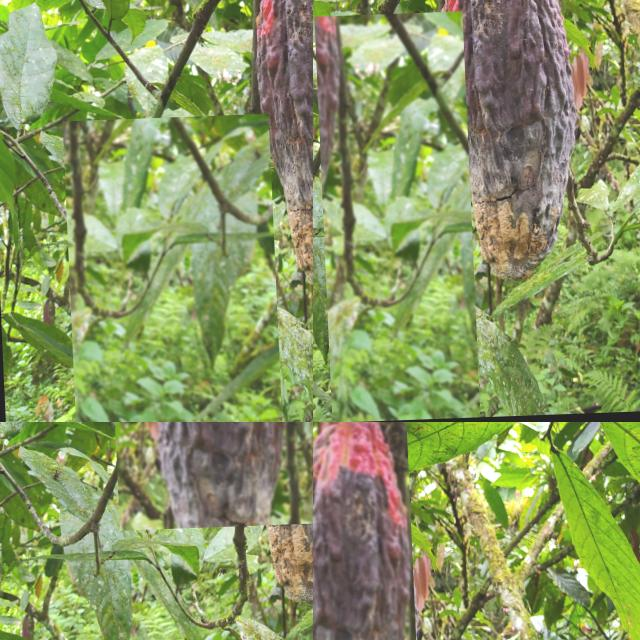Fitoftora: (59, 115, 276, 422), (313, 13, 474, 422), (313, 422, 417, 640)
Monilia: (107, 422, 313, 531)
Sana: (491, 0, 524, 64)
